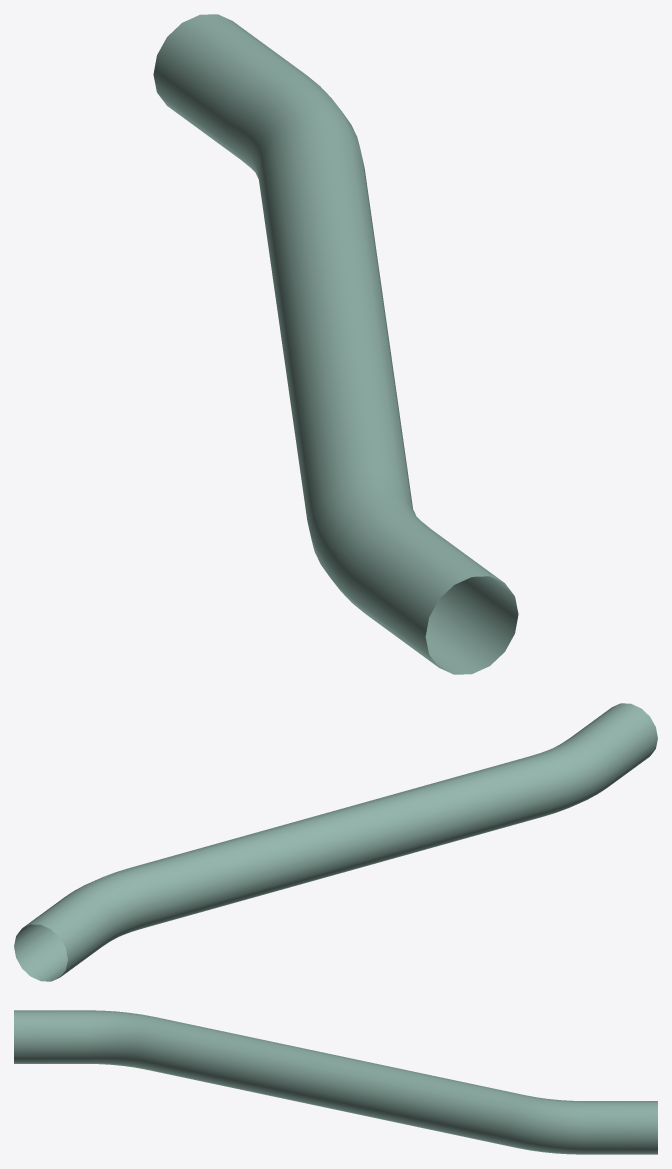
Rendered from PipeLarge_BentSpecial_08.fbx.
3 views of the same model, one above another, from view 1: azimuth 30°, elevation 25°; view 2: azimuth 150°, elevation 25°; view 3: azimuth 270°, elevation 25° (orthographic). The views are drawn at different scales.
Visible parts, largest first — view 1: PipeLarge_BentSpecial_08.001; view 2: PipeLarge_BentSpecial_08.001; view 3: PipeLarge_BentSpecial_08.001.
Part boxes in pixels (left/top/right/bottom): PipeLarge_BentSpecial_08.001: left=153, top=14, right=518, bottom=674; PipeLarge_BentSpecial_08.001: left=14, top=703, right=657, bottom=981; PipeLarge_BentSpecial_08.001: left=14, top=1010, right=657, bottom=1154.
Size of the model in its own units: 1 by 0.2 by 2.4.
